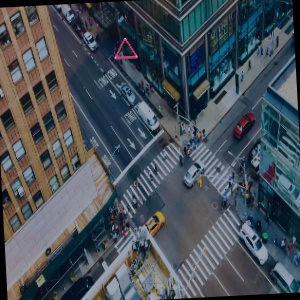triangle: (112, 34, 140, 63)
